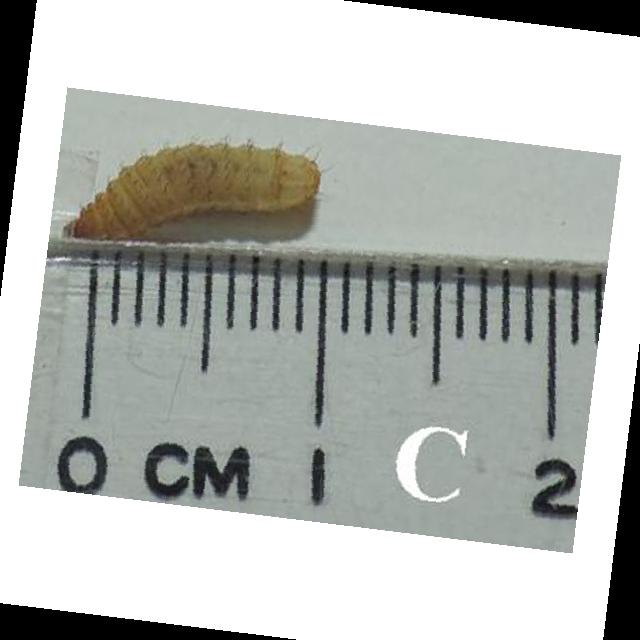Maggot: (70, 147, 324, 244)
